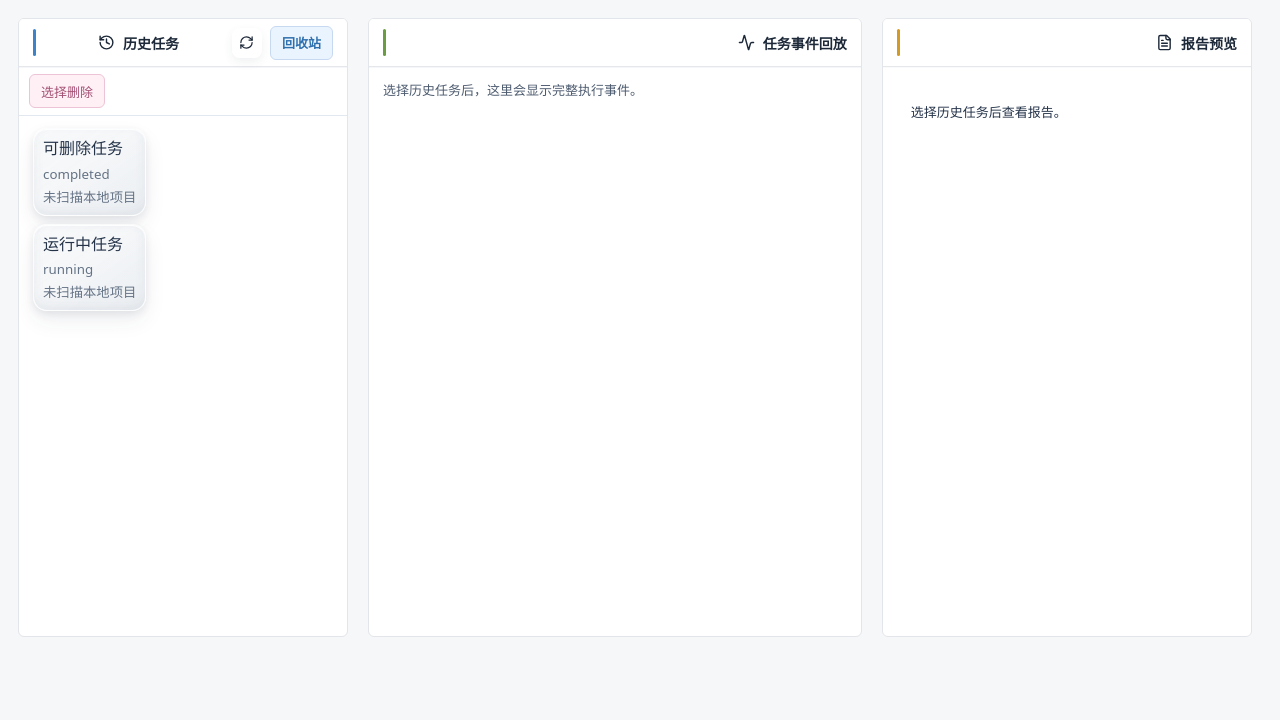
Test: HistoryPage › moves selected terminal tasks to the recycle bin
Click the button "选择删除".
click(67, 91)  # box [29, 74, 105, 108]
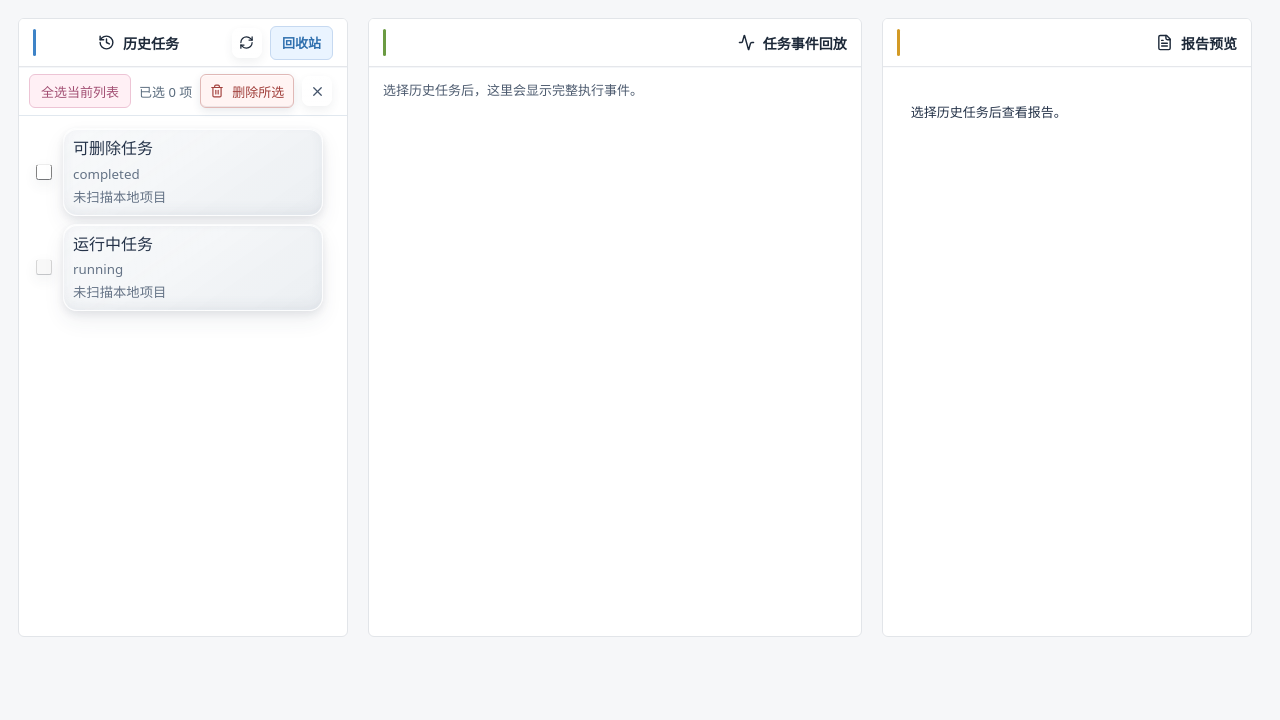
Click the checkbox named "选择 可删除任务".
click(44, 172)  # box [36, 164, 52, 180]
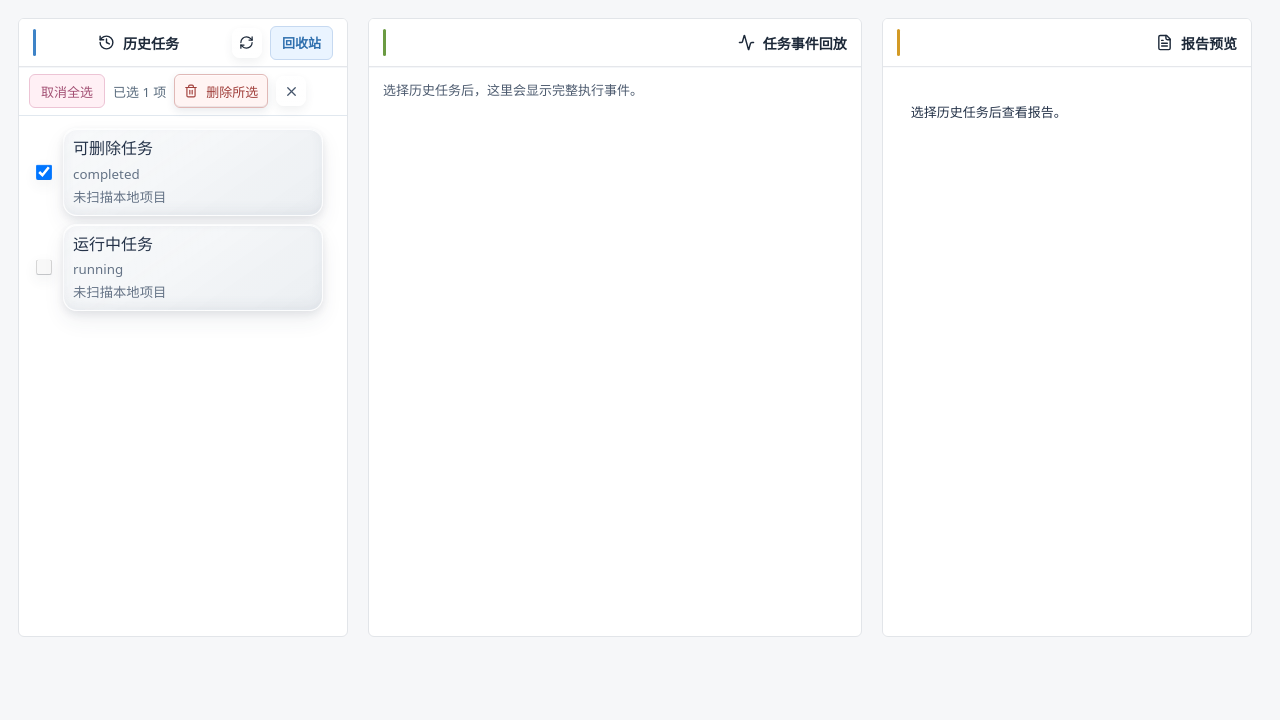
Check: the checkbox named "选择 运行中任务" is disabled, box [36, 259, 52, 275]
Click the button "删除所选".
click(221, 91)  # box [174, 74, 268, 108]
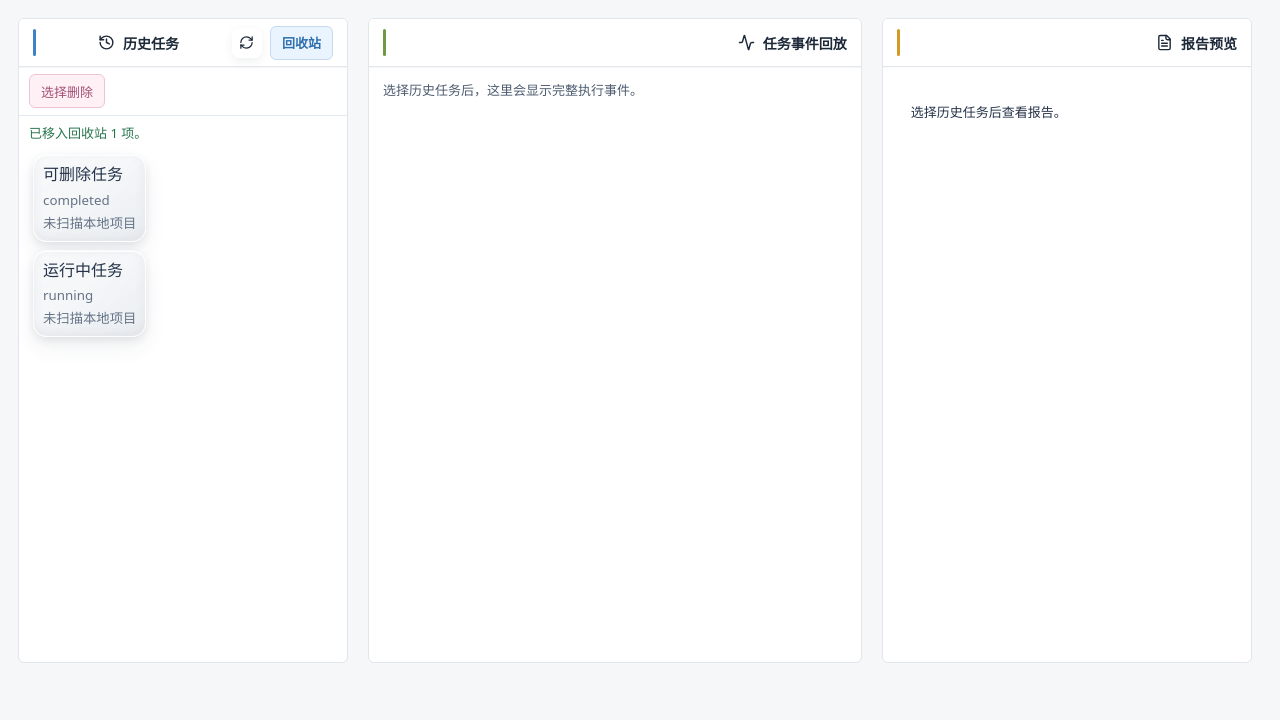
Check: the text "已移入回收站 1 项。" is shown, box [29, 124, 147, 142]
